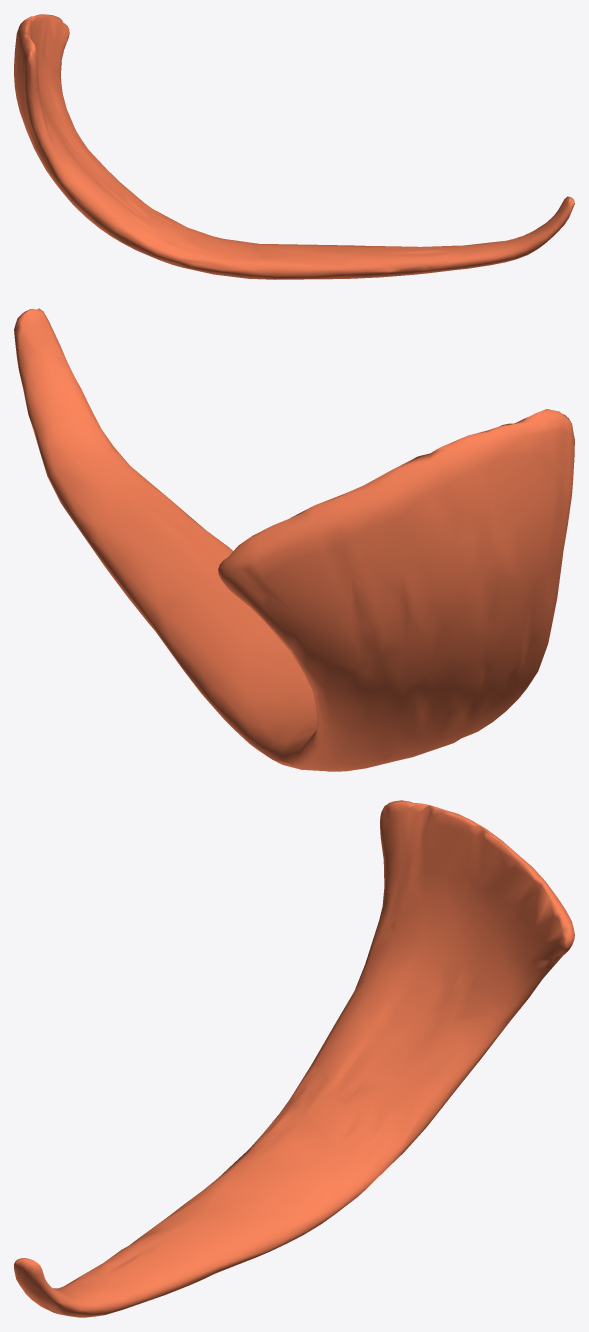
File: Inferior_oblique_muscle.r_grp1.015.glb
3 renders of one model, top to bottom at view 1: azimuth 30°, elevation 25°; view 2: azimuth 150°, elevation 25°; view 3: azimuth 270°, elevation 25°, orthographic. The views are drawn at different scales.
Visible parts, largest first — view 1: Inferior_oblique_muscle.r_grp1.015; view 2: Inferior_oblique_muscle.r_grp1.015; view 3: Inferior_oblique_muscle.r_grp1.015.
Part boxes in pixels (x1=…): Inferior_oblique_muscle.r_grp1.015: x1=14, y1=14, x2=574, y2=279; Inferior_oblique_muscle.r_grp1.015: x1=14, y1=308, x2=574, y2=771; Inferior_oblique_muscle.r_grp1.015: x1=14, y1=800, x2=574, y2=1317.
Size of the model in its own units: 0.0294 by 0.0162 by 0.026.
